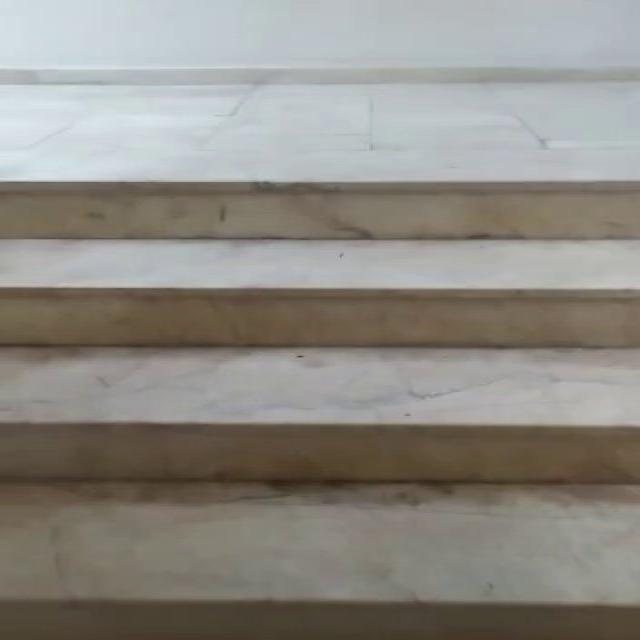stair: (4, 176, 640, 640)
